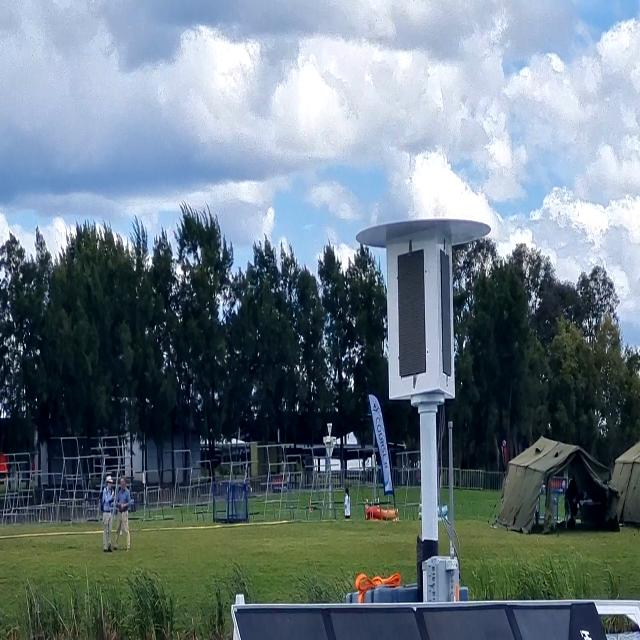led: (389, 245, 453, 388), (394, 239, 432, 383), (437, 239, 452, 390)
